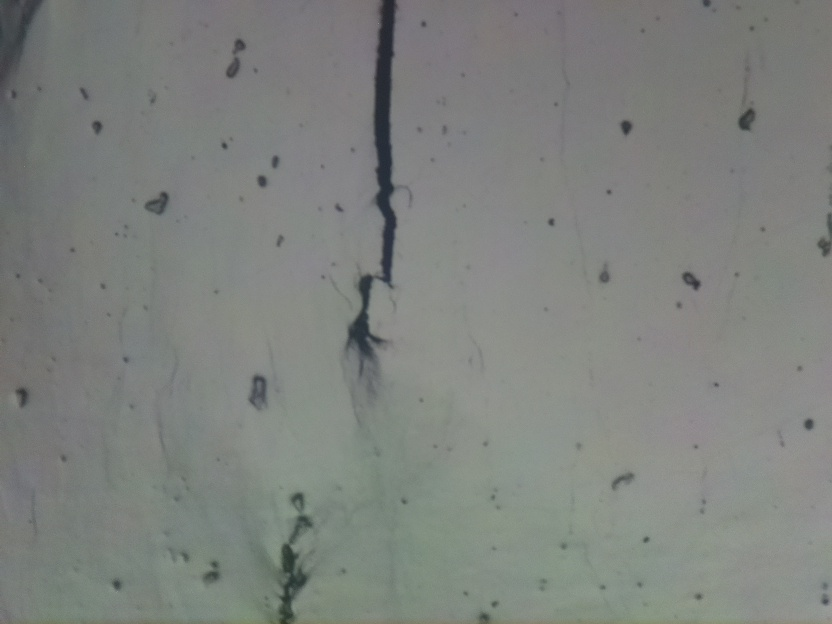crack: (351, 0, 404, 350)
